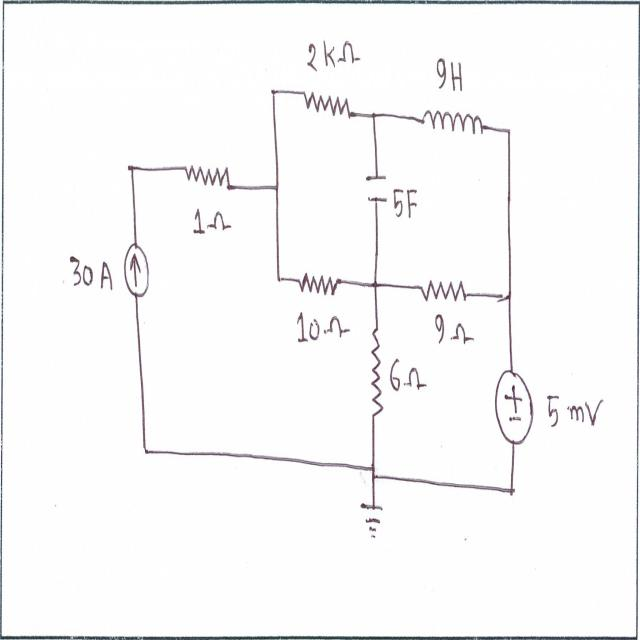capacitor: (366, 172, 390, 208)
current_source: (122, 238, 154, 304)
ground: (354, 496, 386, 541)
inductor: (417, 99, 486, 145)
resistor: (300, 85, 354, 126), (416, 272, 470, 312), (184, 150, 232, 194), (368, 324, 384, 418), (296, 268, 342, 300)
voltage_source: (490, 363, 538, 453)
